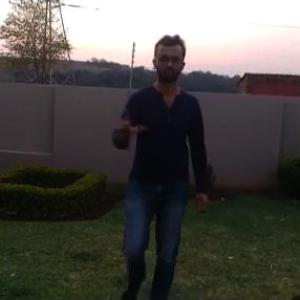land_hand: (118, 96, 158, 138)
